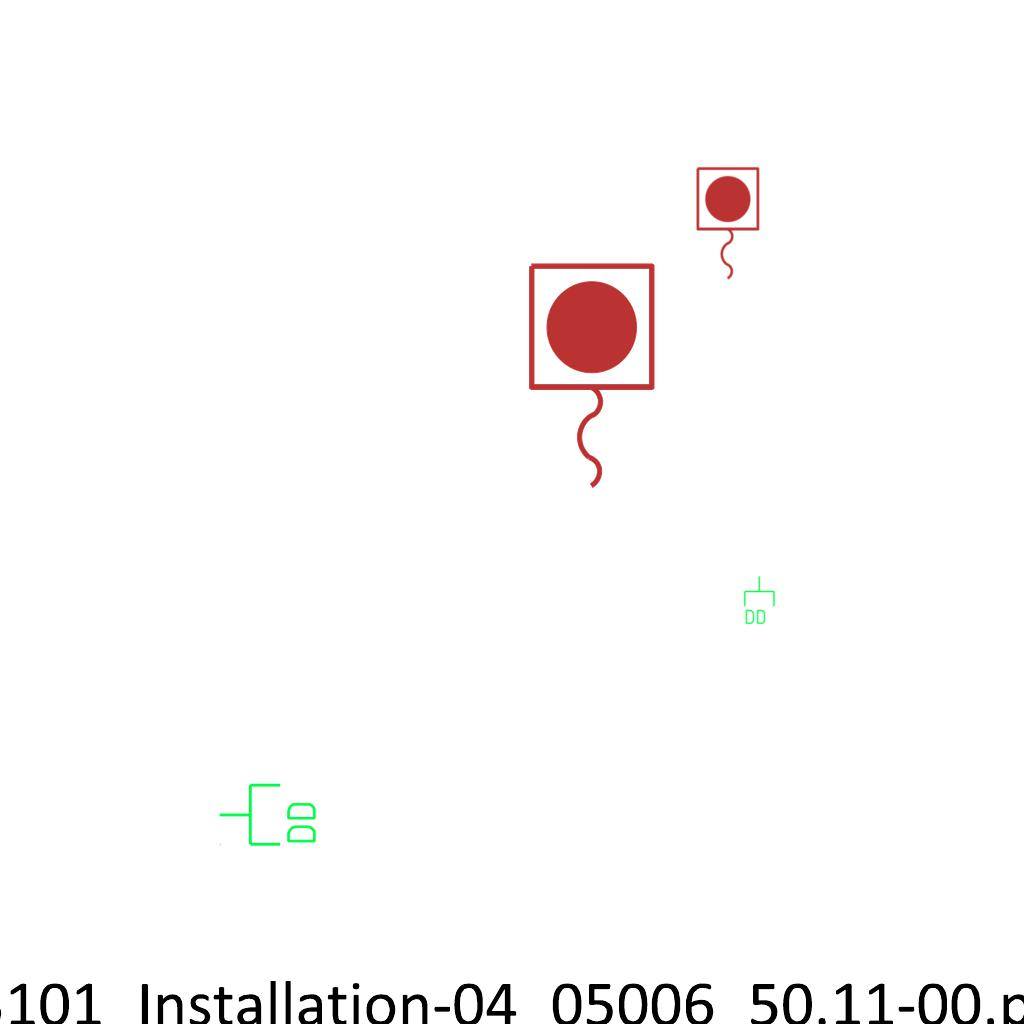Datenanschluss_zweifach: (217, 781, 320, 850), (742, 575, 776, 626)
Zugtaster: (518, 255, 662, 499), (691, 163, 763, 285)
